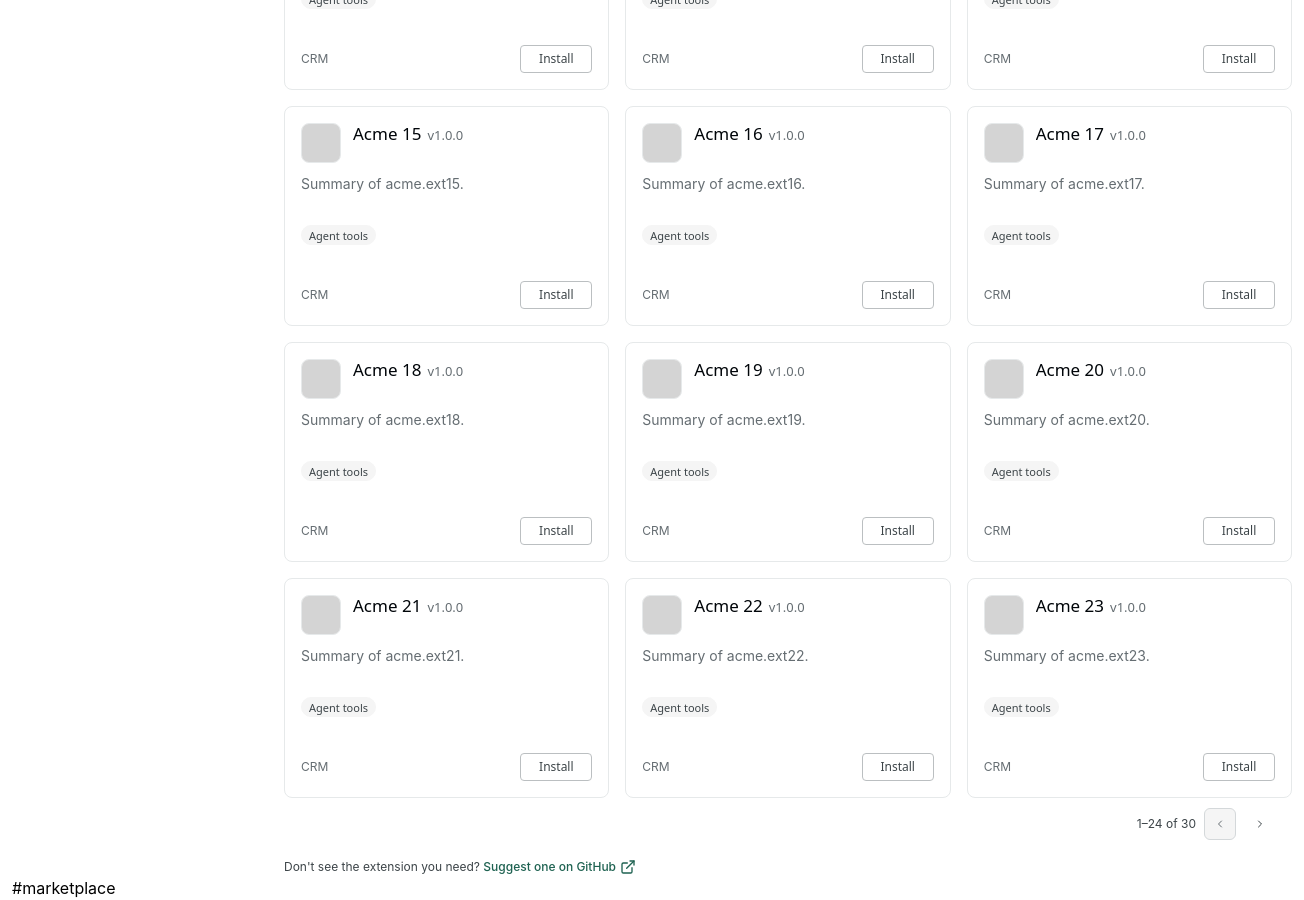
more than 24 extensions page by the range and the arrows
(page scrolled)
expect the text "1–24 of 30" is shown: met, box [1137,815,1196,833]
Click the button named "Next page": (1260, 824) [1244,808,1276,840]
(page scrolled)
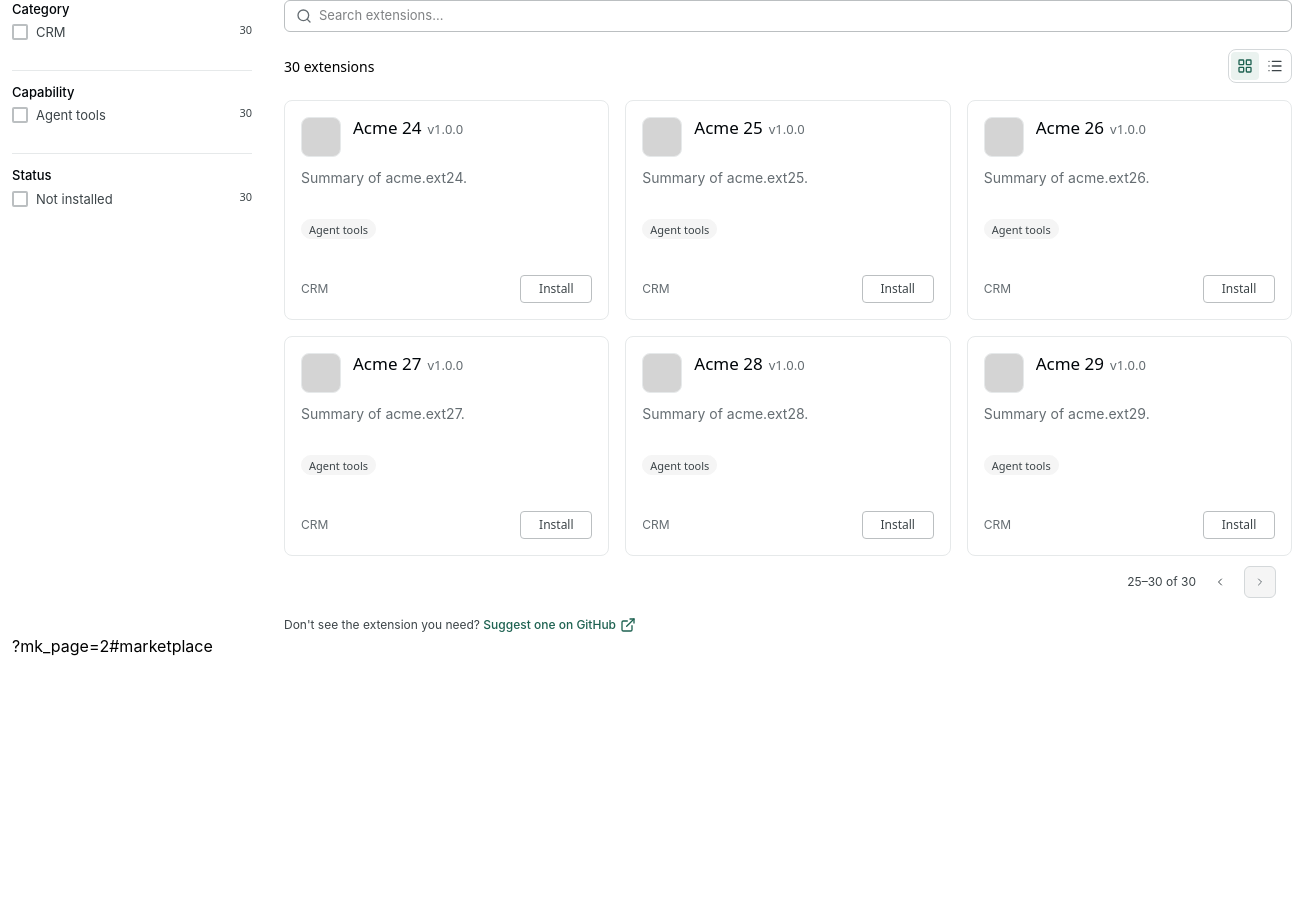
expect the number of links "Acme 24v1.0.0" is 6: met, box [353,116,463,139]; [694,116,805,139]; [1036,116,1146,139]; [353,352,463,375]; [694,352,805,375]; [1036,352,1146,375]
expect the text with test id "location" reads "?mk_page=2#marketplace": met, box [12,636,213,656]
expect the text "25–30 of 30" is shown: met, box [1127,573,1196,591]
